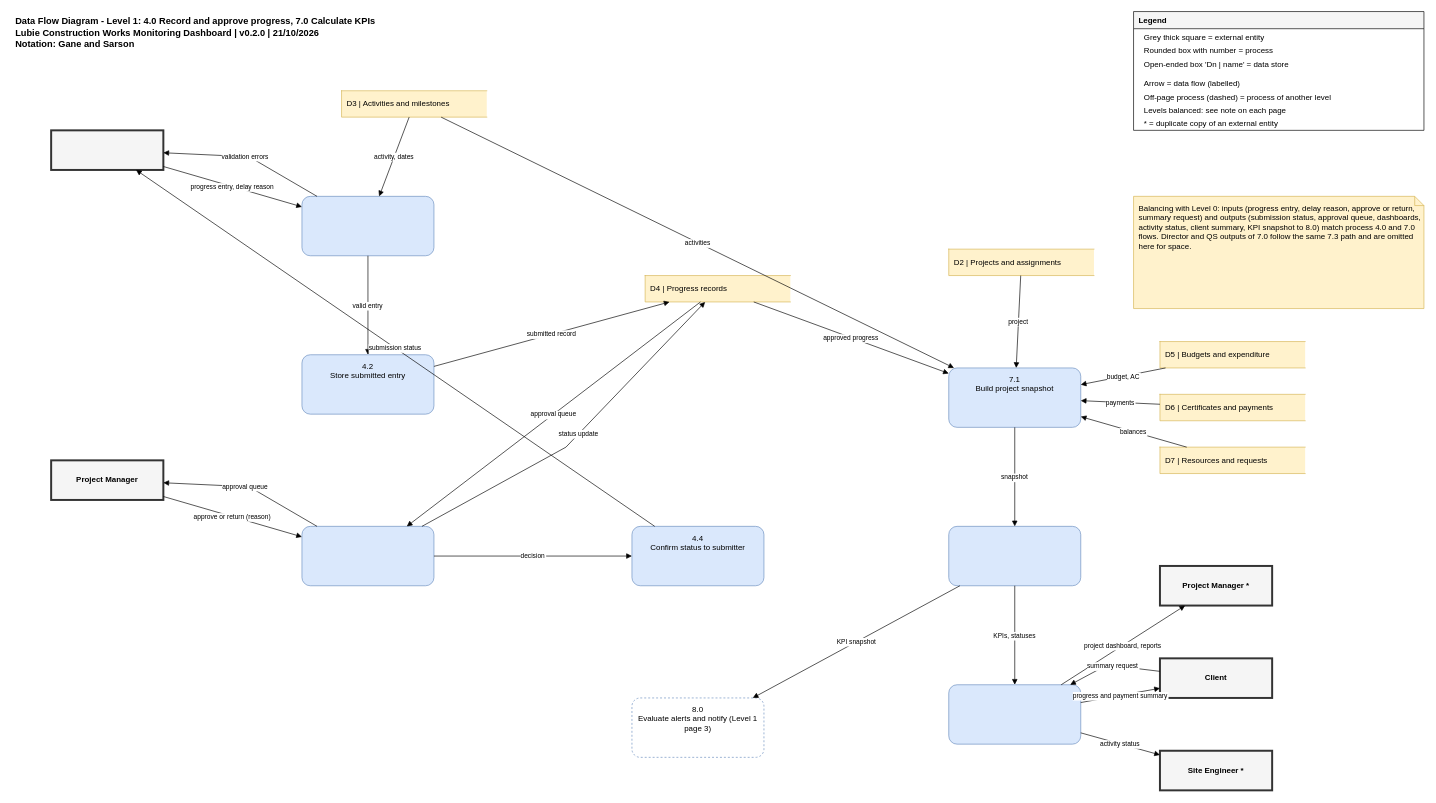
Some shapes in this 1436 by 803 pixel diagram are drawn without their labels. The centre of each missing label's shape, as x and y in pixels:
"4.1 Validate entry (range, date, scope)" goes at point (367, 226).
"4.3 Approve or return entry" goes at point (367, 556).
"7.2 Compute EVM and schedule status" goes at point (1014, 556).
"7.3 Filter by role and serve" goes at point (1014, 714).
"Site Engineer" goes at point (107, 150).
